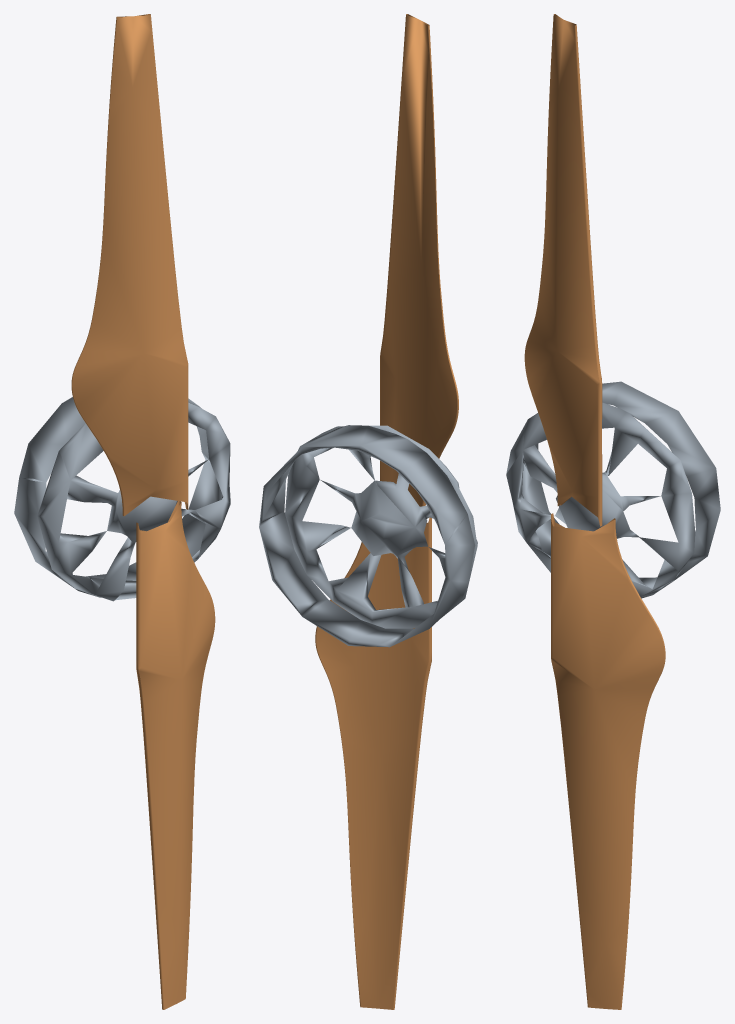
The model's file is px4-x500-rotor-2.glb.
The picture shows the model from 3 angles, left to right: view 1: azimuth 30°, elevation 25°; view 2: azimuth 150°, elevation 25°; view 3: azimuth 330°, elevation 25°; orthographic projection.
Visible parts, largest first — view 1: rotor_2_visual-0, rotor_2_visual_motor_top-1, rotor_2_visual_motor_top-0; view 2: rotor_2_visual-0, rotor_2_visual_motor_top-0, rotor_2_visual_motor_top-1; view 3: rotor_2_visual-0, rotor_2_visual_motor_top-1, rotor_2_visual_motor_top-0.
Part boxes in pixels (<box>): rotor_2_visual-0: <box>71,14,215,1009</box>; rotor_2_visual_motor_top-1: <box>37,402,230,601</box>; rotor_2_visual_motor_top-0: <box>14,397,222,597</box>; rotor_2_visual-0: <box>315,14,458,1009</box>; rotor_2_visual_motor_top-0: <box>259,425,475,647</box>; rotor_2_visual_motor_top-1: <box>285,425,477,628</box>; rotor_2_visual-0: <box>524,14,665,1009</box>; rotor_2_visual_motor_top-1: <box>506,402,695,597</box>; rotor_2_visual_motor_top-0: <box>522,381,720,598</box>.
Bounding box in the file's own units: 0.0593 × 0.2928 × 0.0285.
